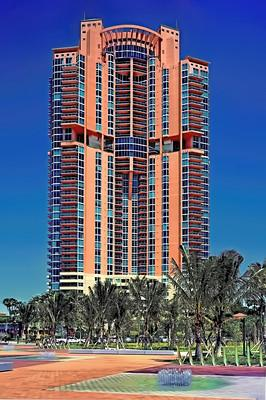building: (42, 15, 212, 345)
